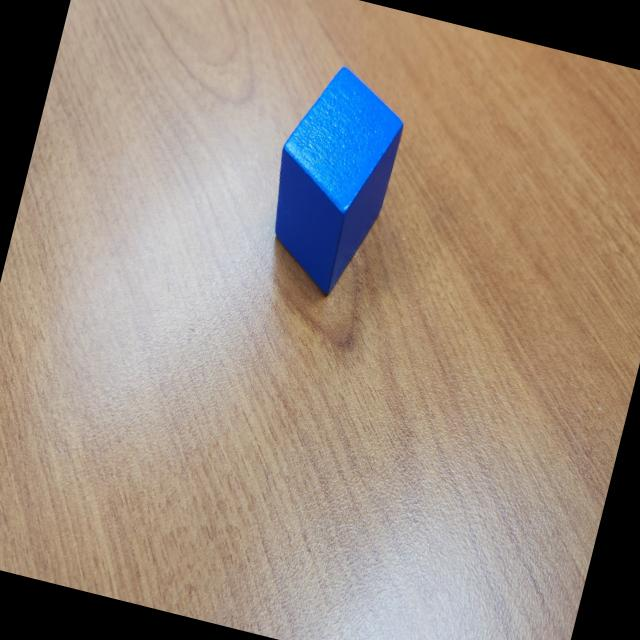blue: (249, 56, 414, 304)
